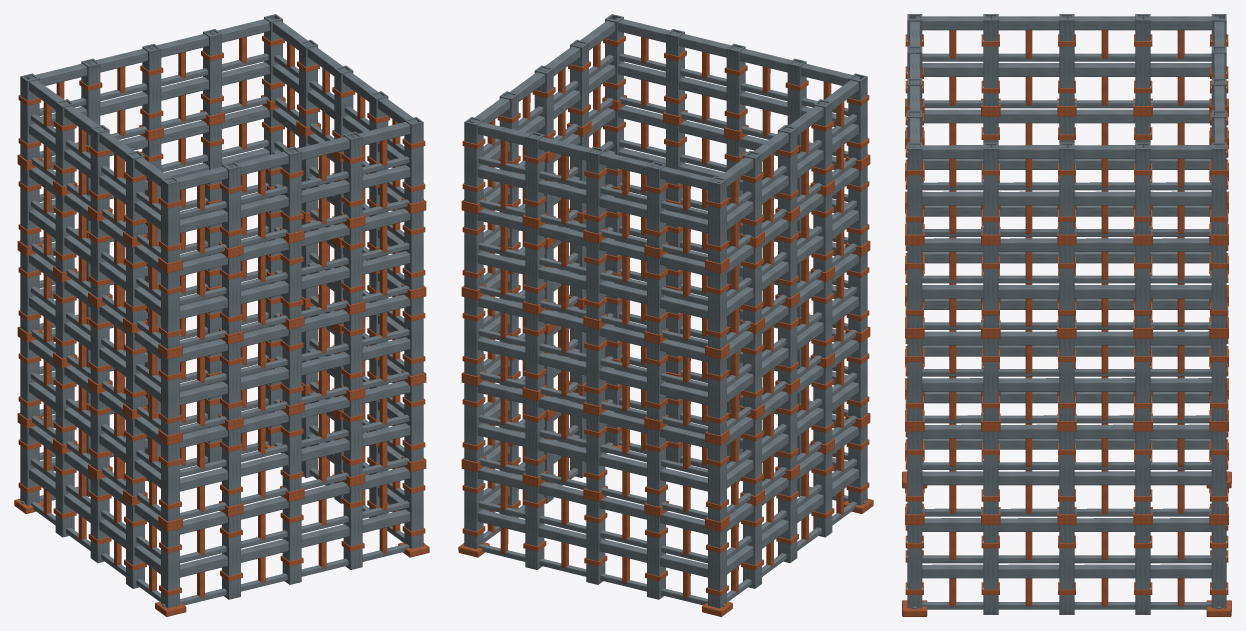
3 views of the same model, side by side, from view 1: azimuth 30°, elevation 25°; view 2: azimuth 150°, elevation 25°; view 3: azimuth 270°, elevation 25° (orthographic). The views are drawn at different scales.
Parts seen in each view (by area): view 1: Tier 4 side 0 post 0, Tier 4 side 0 post 3, Tier 4 side 1 post 0, Tier 4 side 2 post 2, Tier 4 side 0 post 2, Tier 0 side 0 post 0, Tier 0 side 0 post 2, Tier 0 side 0 post 3, Tier 3 side 0 post 0, Tier 1 side 0 post 0, Tier 2 side 0 post 0, Tier 4 side 0 post 1 (+93 smaller); view 2: Tier 4 side 3 post 0, Tier 4 side 2 post 1, Tier 4 side 2 post 0, Tier 4 side 0 post 2, Tier 4 side 2 post 2, Tier 0 side 3 post 0, Tier 0 side 2 post 2, Tier 0 side 2 post 1, Tier 3 side 3 post 0, Tier 1 side 3 post 0, Tier 2 side 3 post 0, Tier 4 side 2 post 3 (+94 smaller); view 3: Tier 4 side 3 post 1, Tier 4 side 3 post 2, Tier 4 side 3 post 3, Tier 4 side 1 post 1, Tier 4 side 1 post 2, Tier 4 side 1 post 3, Tier 4 side 1 post 0, Tier 4 side 2 post 0, Tier 0 side 1 post 1, Tier 0 side 1 post 2, Tier 0 side 1 post 3, Tier 1 side 1 post 1 (+144 smaller).
Boxes of the visible parts, x1,y1,x2,y2 form: Tier 4 side 0 post 0: (161, 176, 179, 263); Tier 4 side 0 post 3: (343, 131, 362, 218); Tier 4 side 1 post 0: (404, 117, 423, 203); Tier 4 side 2 post 2: (142, 44, 161, 130); Tier 4 side 0 post 2: (282, 146, 301, 233); Tier 0 side 0 post 0: (161, 527, 179, 608); Tier 0 side 0 post 2: (282, 499, 301, 584); Tier 0 side 0 post 3: (343, 484, 362, 569); Tier 3 side 0 post 0: (161, 269, 179, 349); Tier 1 side 0 post 0: (161, 441, 179, 521); Tier 2 side 0 post 0: (161, 355, 179, 435); Tier 4 side 0 post 1: (222, 161, 240, 248); Tier 4 side 3 post 0: (708, 176, 726, 263); Tier 4 side 2 post 1: (525, 131, 544, 218); Tier 4 side 2 post 0: (464, 117, 483, 203); Tier 4 side 0 post 2: (726, 43, 745, 130); Tier 4 side 2 post 2: (586, 146, 605, 233); Tier 0 side 3 post 0: (708, 527, 726, 608); Tier 0 side 2 post 2: (586, 499, 605, 584); Tier 0 side 2 post 1: (525, 484, 544, 569); Tier 3 side 3 post 0: (708, 269, 726, 349); Tier 1 side 3 post 0: (708, 441, 726, 521); Tier 2 side 3 post 0: (708, 355, 726, 435); Tier 4 side 2 post 3: (647, 161, 665, 248); Tier 4 side 3 post 1: (1135, 14, 1150, 105); Tier 4 side 3 post 2: (1059, 14, 1074, 105); Tier 4 side 3 post 3: (983, 14, 998, 105); Tier 4 side 1 post 1: (983, 142, 998, 234); Tier 4 side 1 post 2: (1059, 142, 1074, 234); Tier 4 side 1 post 3: (1135, 142, 1150, 234); Tier 4 side 1 post 0: (907, 142, 922, 234); Tier 4 side 2 post 0: (1211, 142, 1226, 234); Tier 0 side 1 post 1: (983, 525, 998, 614); Tier 0 side 1 post 2: (1059, 525, 1074, 614); Tier 0 side 1 post 3: (1135, 525, 1150, 614); Tier 1 side 1 post 1: (983, 431, 998, 514).
Bounding box in the file's own units: 1.95 × 3.04 × 1.95.
Materials: 2 (2 with a texture image).
